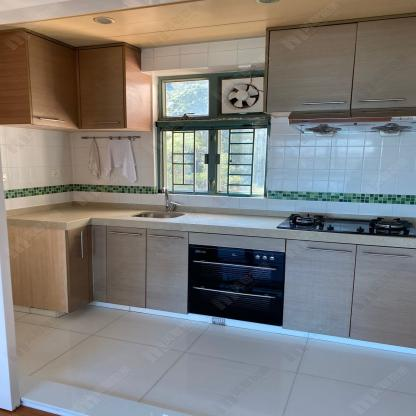Cupboard: (1, 29, 151, 131), (265, 13, 415, 112), (283, 241, 416, 349), (63, 224, 185, 314)
Exhaust Fan: (221, 77, 265, 114)
Exhaust Hood: (291, 108, 416, 137)
Faucet: (159, 186, 179, 212)
Oven: (188, 245, 280, 327)
Sink: (130, 209, 190, 221)
Stove: (274, 213, 416, 239)
